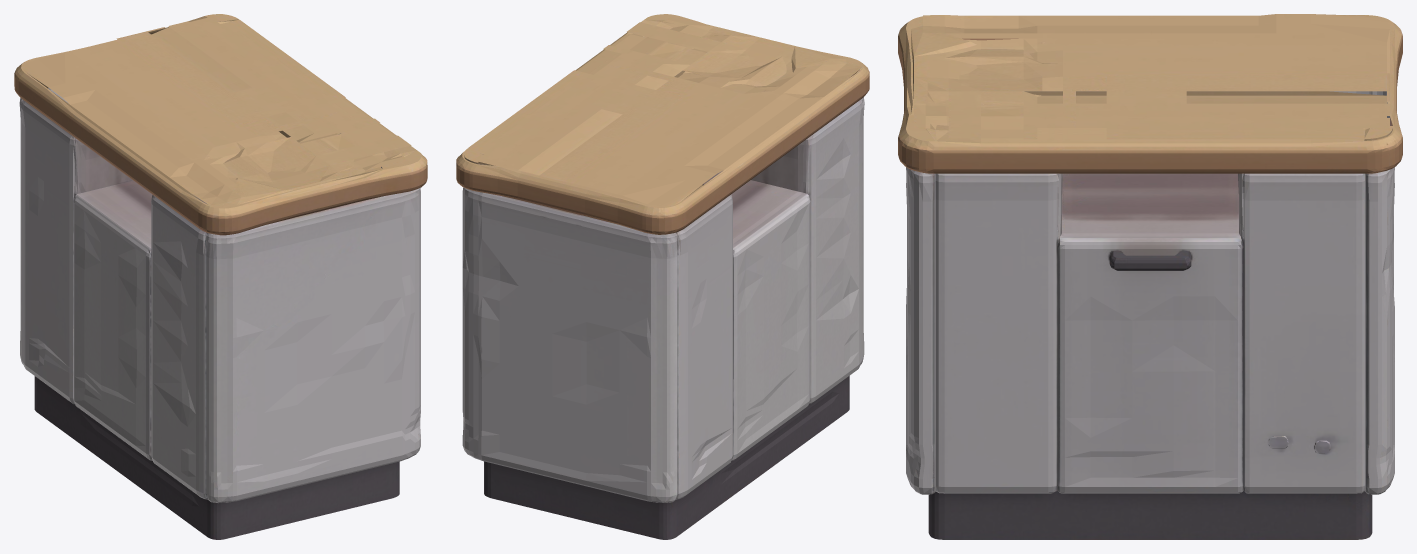
The model's file is kitchenislandsmall.glb.
3 views of the same model, side by side, from view 1: azimuth 30°, elevation 25°; view 2: azimuth 150°, elevation 25°; view 3: azimuth 270°, elevation 25° (orthographic). The views are drawn at different scales.
Parts seen in each view (by area): view 1: tripo_node_d5a2abdf-f543-4a19-bcfd-03beaa1bbf80; view 2: tripo_node_d5a2abdf-f543-4a19-bcfd-03beaa1bbf80; view 3: tripo_node_d5a2abdf-f543-4a19-bcfd-03beaa1bbf80.
Part boxes in pixels (x1,y1,x2,y2): tripo_node_d5a2abdf-f543-4a19-bcfd-03beaa1bbf80: [14, 14, 427, 539]; tripo_node_d5a2abdf-f543-4a19-bcfd-03beaa1bbf80: [456, 14, 869, 539]; tripo_node_d5a2abdf-f543-4a19-bcfd-03beaa1bbf80: [898, 14, 1402, 539].
Size of the model in its own units: 0.6322 by 0.8984 by 1.
Materials: 1 (1 with a texture image).
